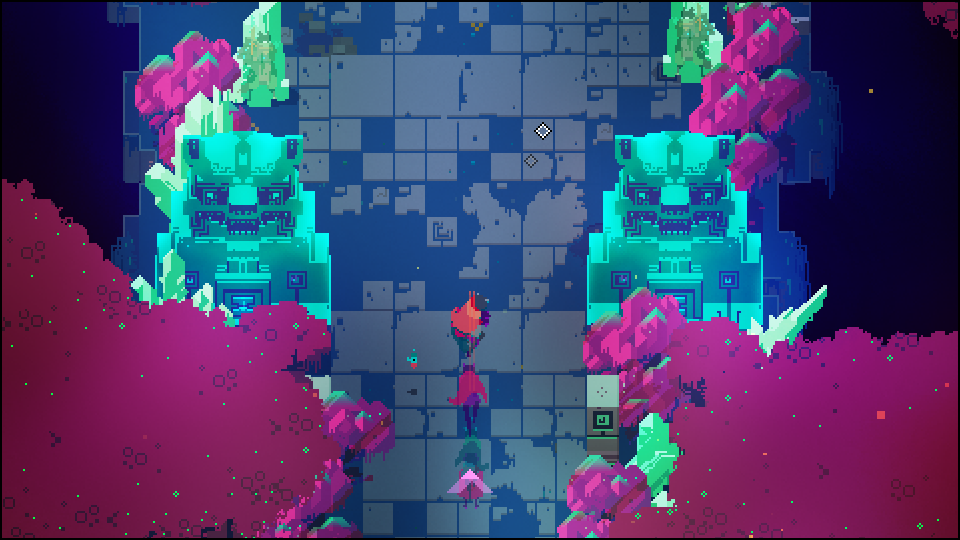player: (452, 290, 495, 338)
